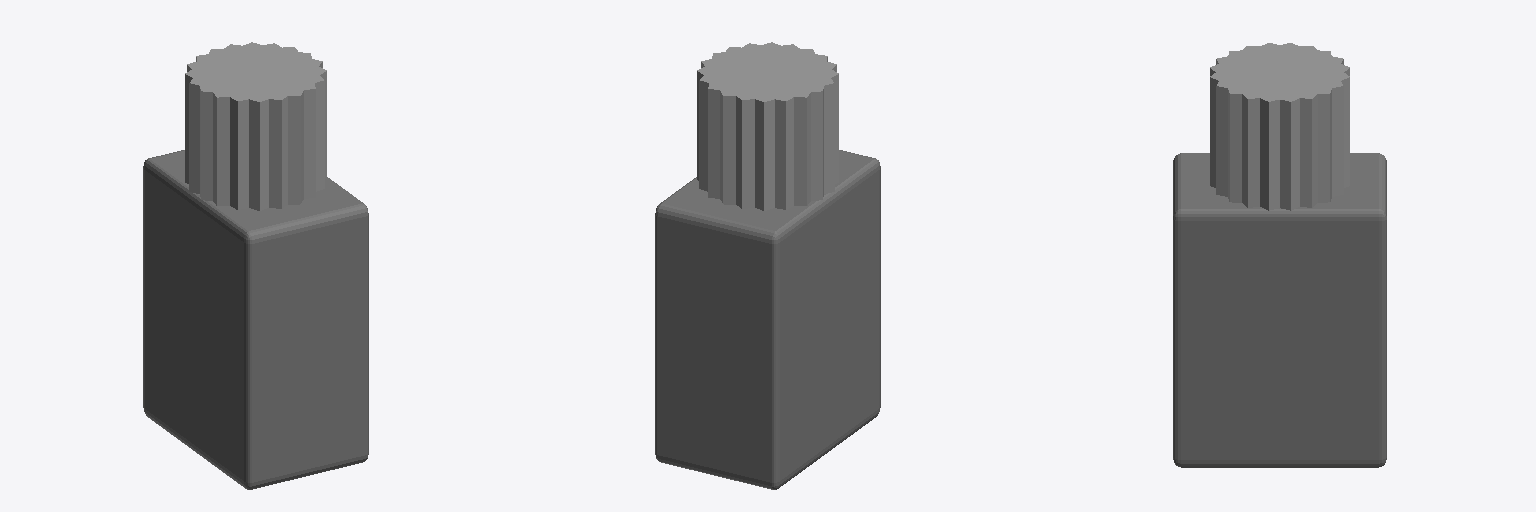
File: bouteillejuana2.obj
The picture shows the model from 3 angles: view 1: azimuth 30°, elevation 25°; view 2: azimuth 150°, elevation 25°; view 3: azimuth 270°, elevation 25°; orthographic projection.
Parts seen in each view (by area): view 1: Cube.001, Cylinder_Cylinder.000; view 2: Cube.001, Cylinder_Cylinder.000; view 3: Cube.001, Cylinder_Cylinder.000.
Part boxes in pixels (x1,y1,x2,y2): Cube.001: (143,150,368,489); Cylinder_Cylinder.000: (185,42,326,210); Cube.001: (655,150,880,489); Cylinder_Cylinder.000: (697,42,838,210); Cube.001: (1173,153,1386,467); Cylinder_Cylinder.000: (1210,43,1349,210).
Size of the model in its own units: 0.4241 by 1.21 by 0.6362.